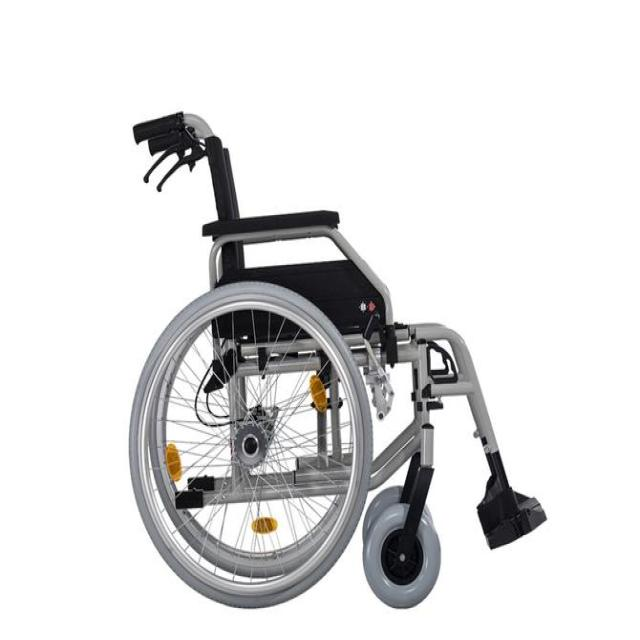wheelchairs: (114, 99, 552, 622)
